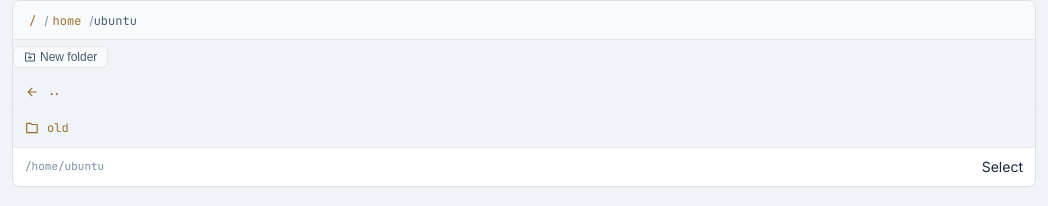
FilePicker — creating a folder on the server › Create is disabled until a name is typed
Click the button "New folder" at (61, 57), box [13,46,108,68]
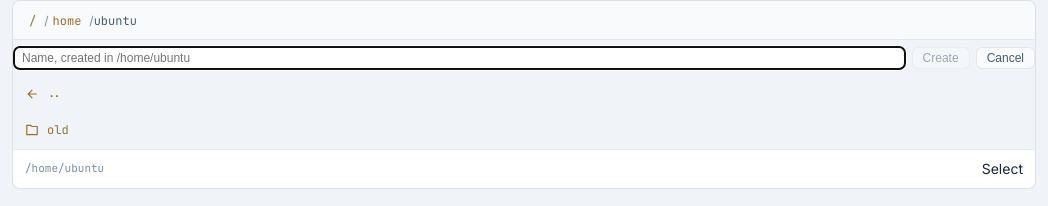
Check: the button "Create" is disabled, box [912,47,970,69]
